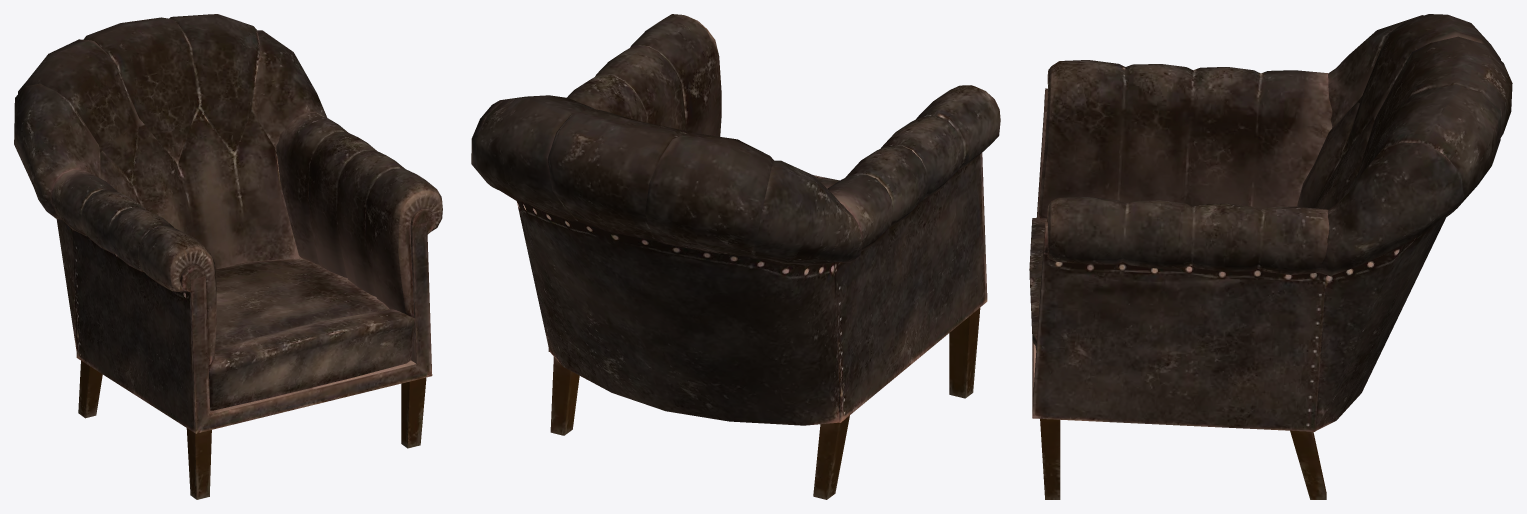
Rendered from old_leather_armchair.glb.
3 views of the same model, side by side, from view 1: azimuth 30°, elevation 25°; view 2: azimuth 150°, elevation 25°; view 3: azimuth 270°, elevation 25° (orthographic). The views are drawn at different scales.
Parts seen in each view (by area): view 1: Object_2; view 2: Object_2; view 3: Object_2.
Part boxes in pixels (x1,y1,x2,y2): Object_2: [14, 14, 442, 499]; Object_2: [471, 14, 1000, 499]; Object_2: [1029, 14, 1512, 499].
Size of the model in its own units: 90.43 by 95.38 by 110.
1 material, 1 textured.
